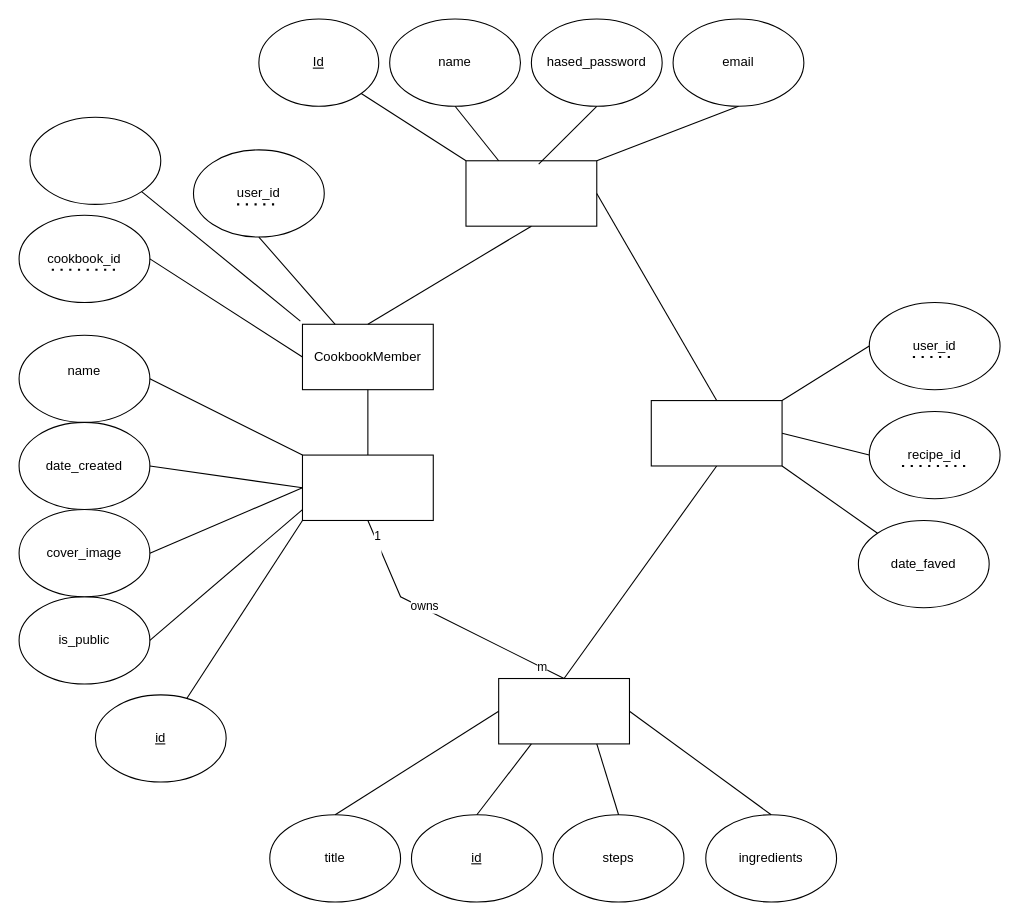
This 1019x921 diagram has some shape labels left out. The shapes that lost their labels are listed below. From the top down, each one's box as (x1, y1, x2, y2) in pixels, then its label:
(29, 116, 161, 204): role
(465, 160, 597, 226): User
(650, 399, 782, 466): Faves
(301, 454, 433, 520): Cookbook
(498, 677, 629, 744): Recipe
